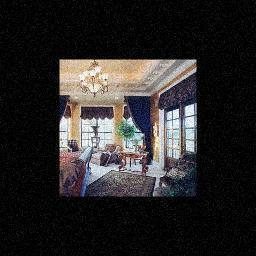Puerta: (164, 103, 180, 163), (182, 101, 195, 152)
